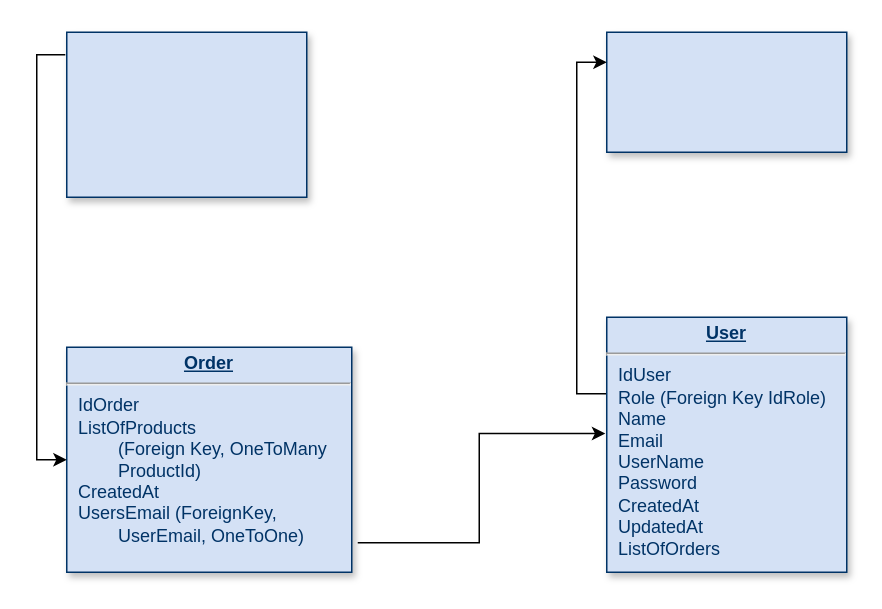
The diagram is 882 pixels wide and 609 high, and some of its shapes have lost their labels. The shapes that lost their labels are listed below. From the top down, each one's centre as x and y in pixels, then its label:
point 727,94: Role IdRole Name Description
point 187,116: Product IdProduct Name Type SizeOfUnit NumberOfUnits
